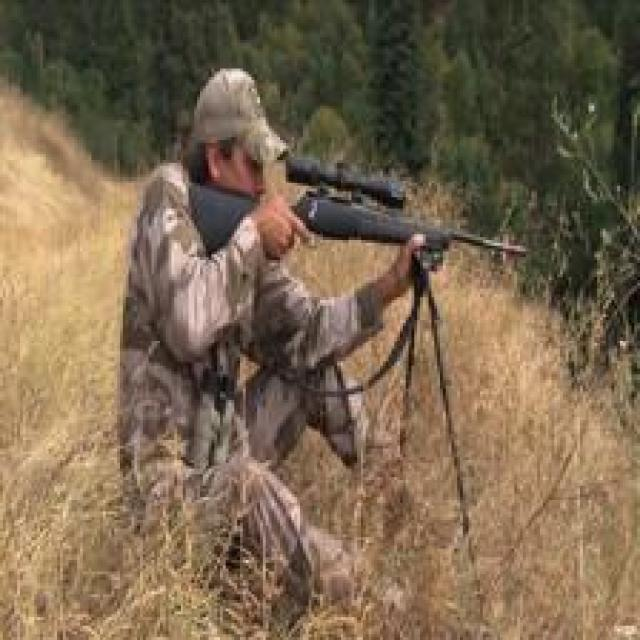Rifle: (214, 140, 526, 334)
